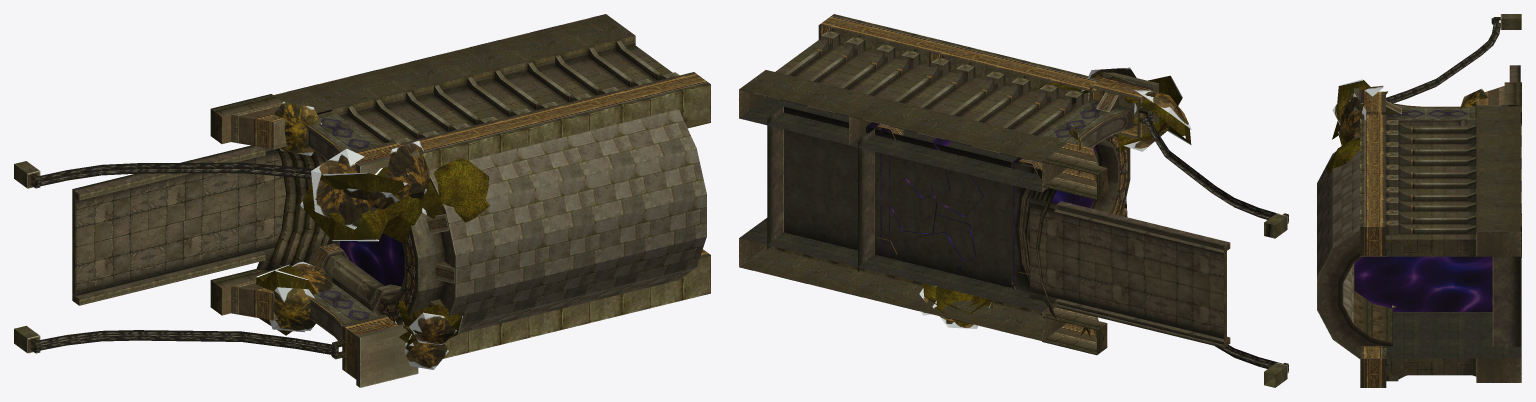
File: huodong_fuben_330_damen_01.obj
3 renders of one model, left to right at view 1: azimuth 30°, elevation 25°; view 2: azimuth 150°, elevation 25°; view 3: azimuth 270°, elevation 25°, orthographic. The views are drawn at different scales.
Parts seen in each view (by area): view 1: huodong_fuben_330_damen_01, huodong_fuben_330_langan_01a_02, door; view 2: huodong_fuben_330_damen_01, huodong_fuben_330_langan_01a_02, door; view 3: huodong_fuben_330_damen_01, door, huodong_fuben_330_langan_01a_02.
Part boxes in pixels (x1=…): huodong_fuben_330_damen_01: x1=14, y1=14, x2=710, y2=387; huodong_fuben_330_langan_01a_02: x1=256, y1=101, x2=489, y2=369; door: x1=340, y1=233, x2=404, y2=286; huodong_fuben_330_damen_01: x1=739, y1=14, x2=1288, y2=387; huodong_fuben_330_langan_01a_02: x1=919, y1=67, x2=1191, y2=336; door: x1=867, y1=122, x2=1095, y2=288; huodong_fuben_330_damen_01: x1=1317, y1=14, x2=1521, y2=387; door: x1=1354, y1=256, x2=1492, y2=311; huodong_fuben_330_langan_01a_02: x1=1326, y1=79, x2=1487, y2=173.
Bounding box in the file's own units: 1112 × 433 × 433.
Materials: 7 (7 with a texture image).
